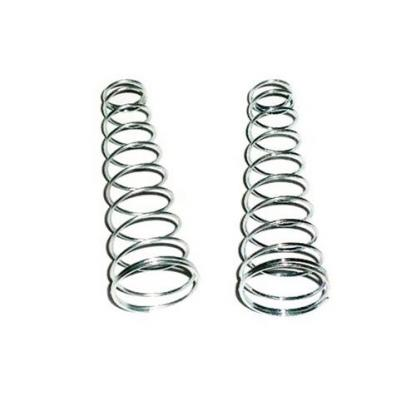FOD: (100, 74, 202, 316), (234, 76, 331, 314)
